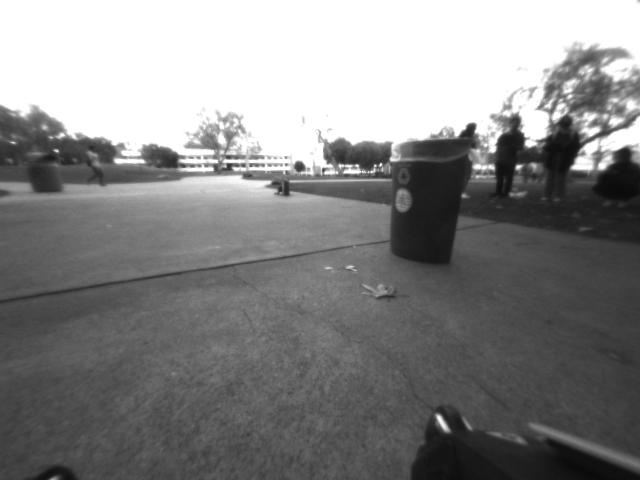trashcan_open: (387, 132, 473, 269)
